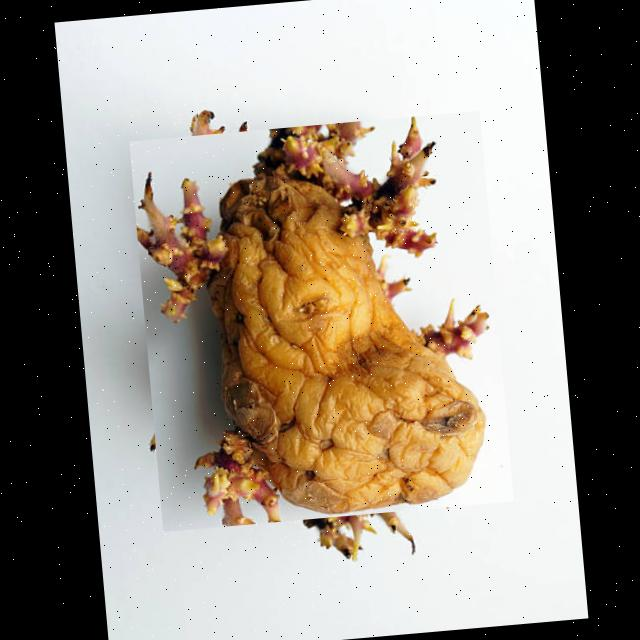Sprouted potato: (128, 110, 512, 532)
